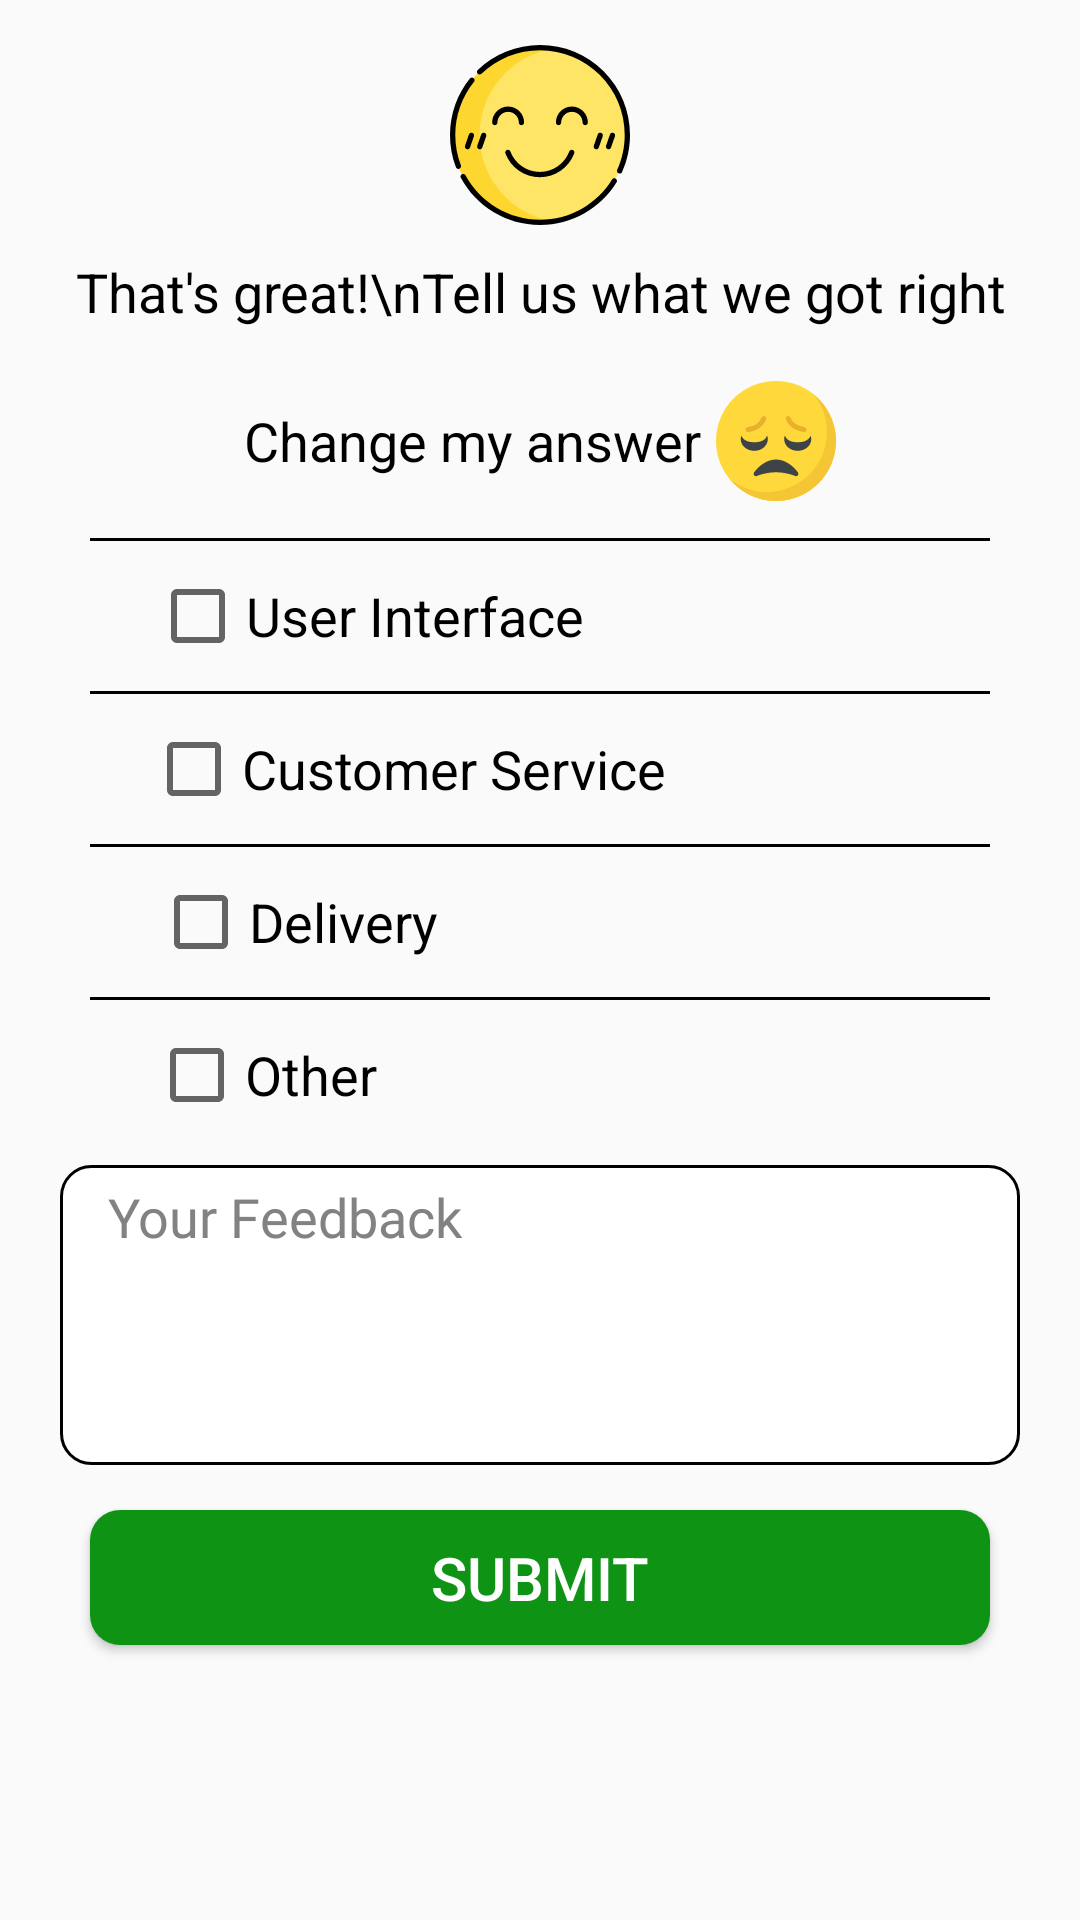

Point at icon controls on the screen. Image size 1080*1920, points as point (x, y).
sad: point (776, 441)
smile: point (540, 135)
